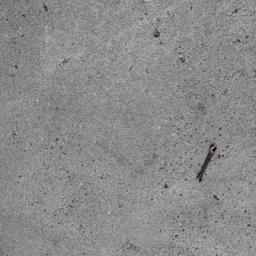FOD: (196, 142, 220, 184)
